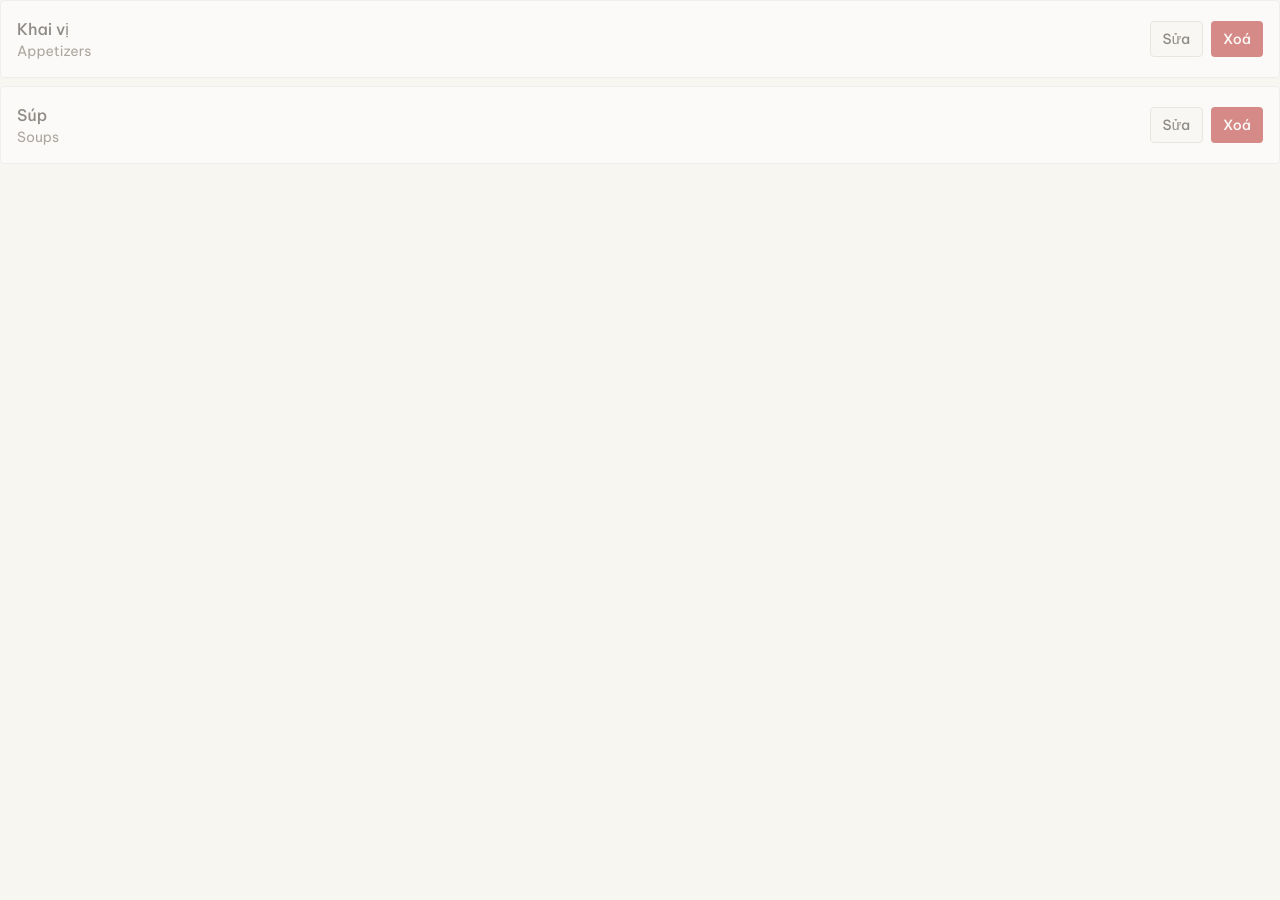
Test: CategoriesTable › opens the confirm dialog with the right item name when Xoá is clicked
Click the button "Xoá" in the row of "Appetizers" at [1237, 39], box 1211,21 -> 1263,57
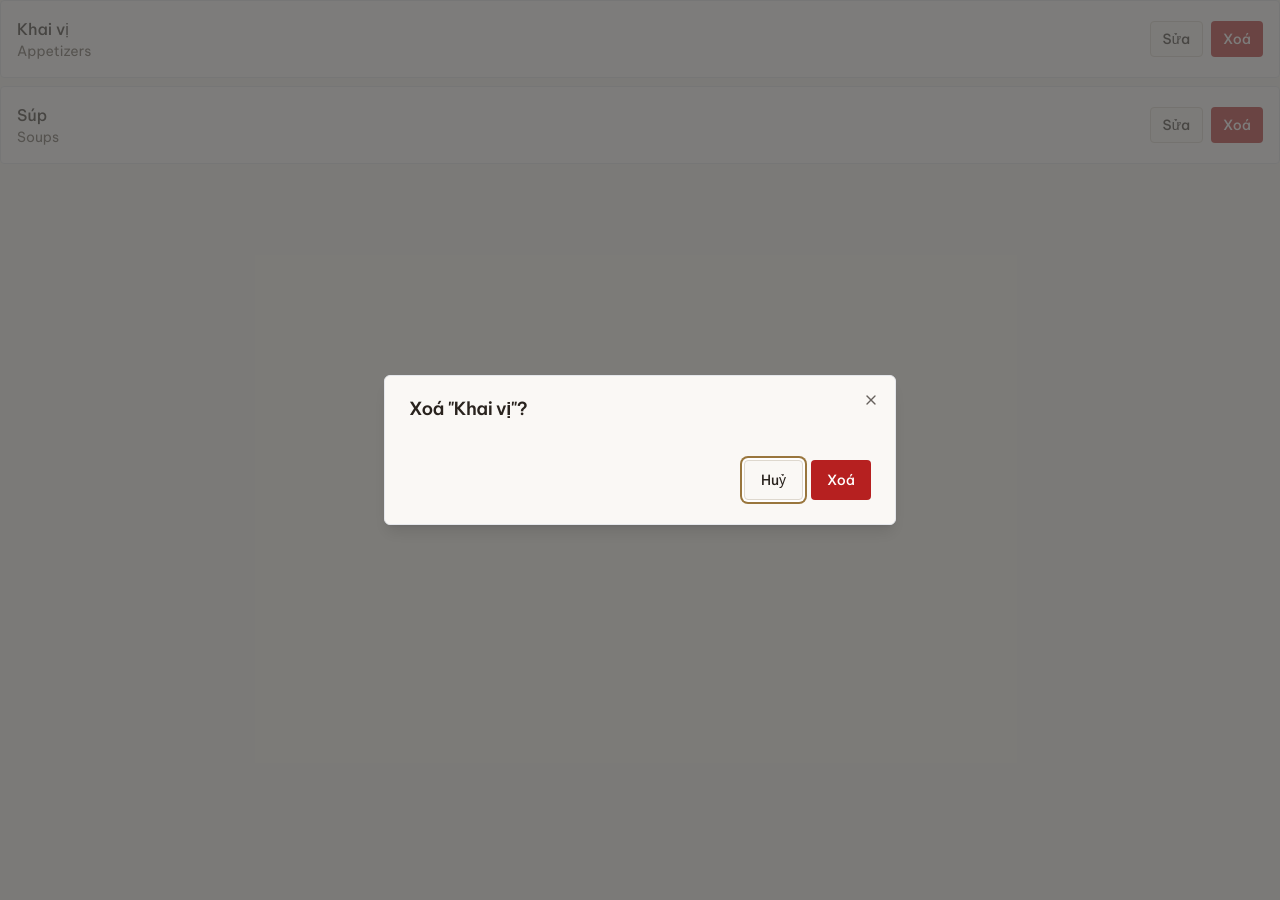
Result: the heading "Xoá \"Khai vị\"?" is shown at 409,397 -> 527,420
